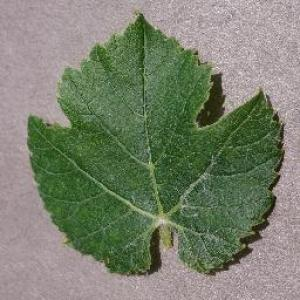Folha: (25, 12, 285, 278)
